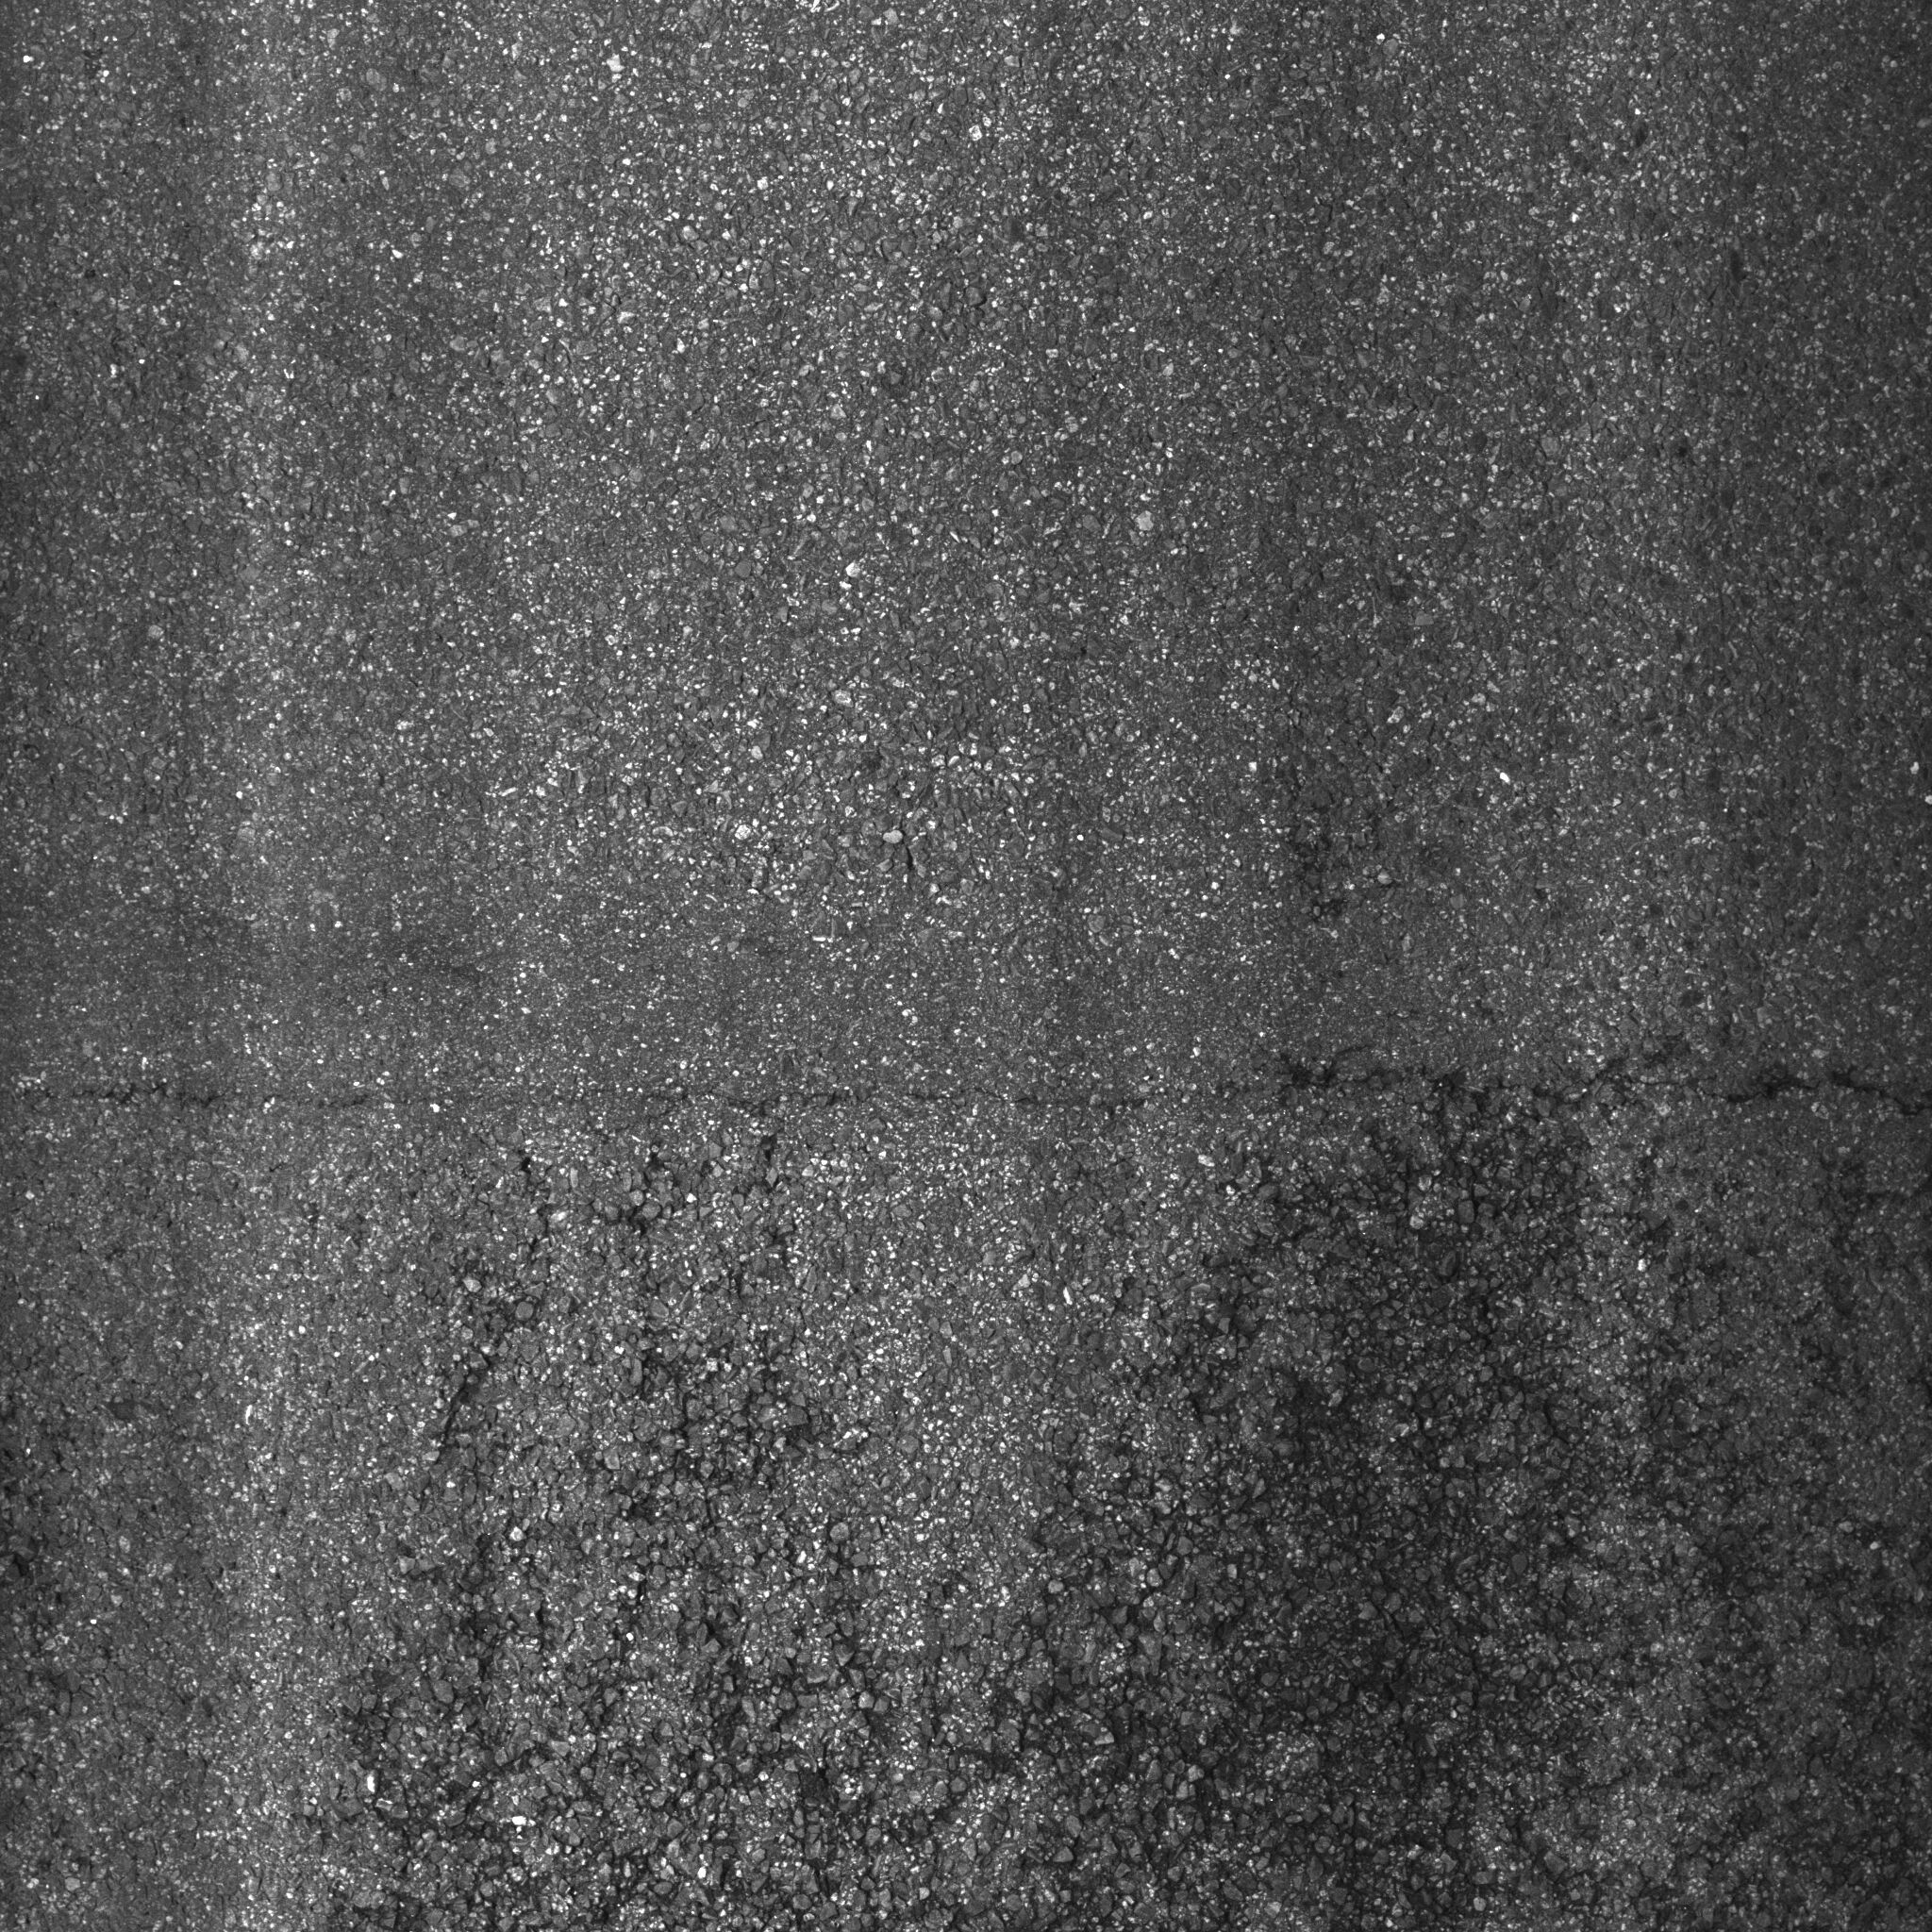alligator: (39, 1116, 1861, 1932)
